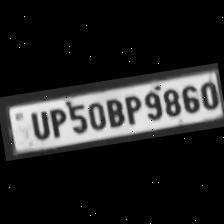0: (83, 96, 107, 132), (196, 78, 221, 112)
5: (64, 100, 89, 136)
6: (178, 82, 200, 116)
8: (159, 86, 182, 120)
9: (140, 88, 164, 123)
B: (102, 94, 126, 130)
P: (120, 91, 144, 127), (45, 104, 69, 139)
U: (25, 107, 52, 141)
